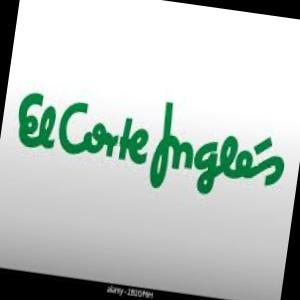corte_ingles: (8, 77, 293, 208)
